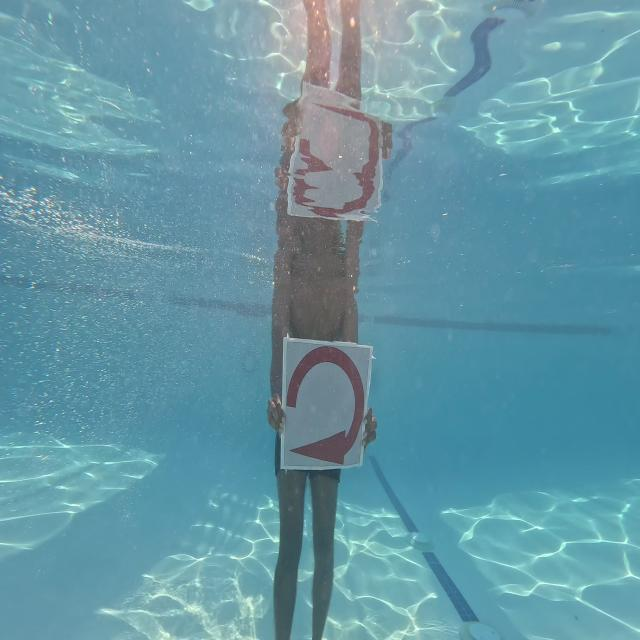red_side: (280, 325, 381, 477)
